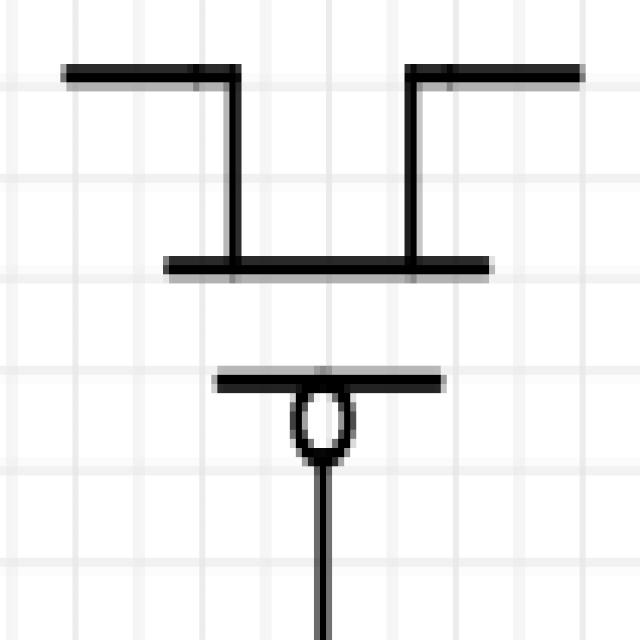pmos: (48, 2, 605, 640)
